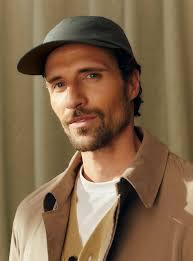cap: (18, 9, 141, 77)
